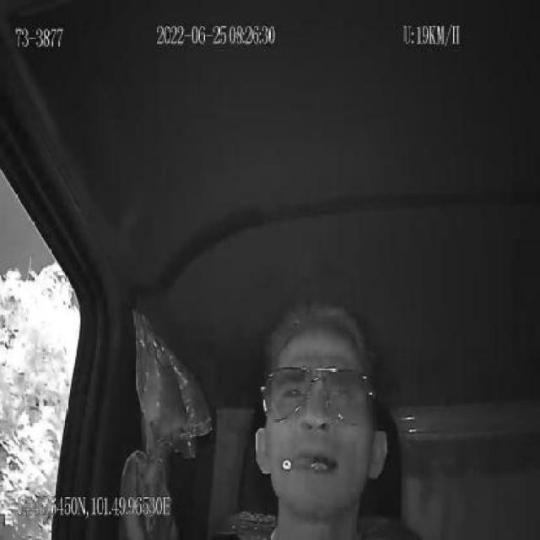smoking: (280, 448, 316, 473)
